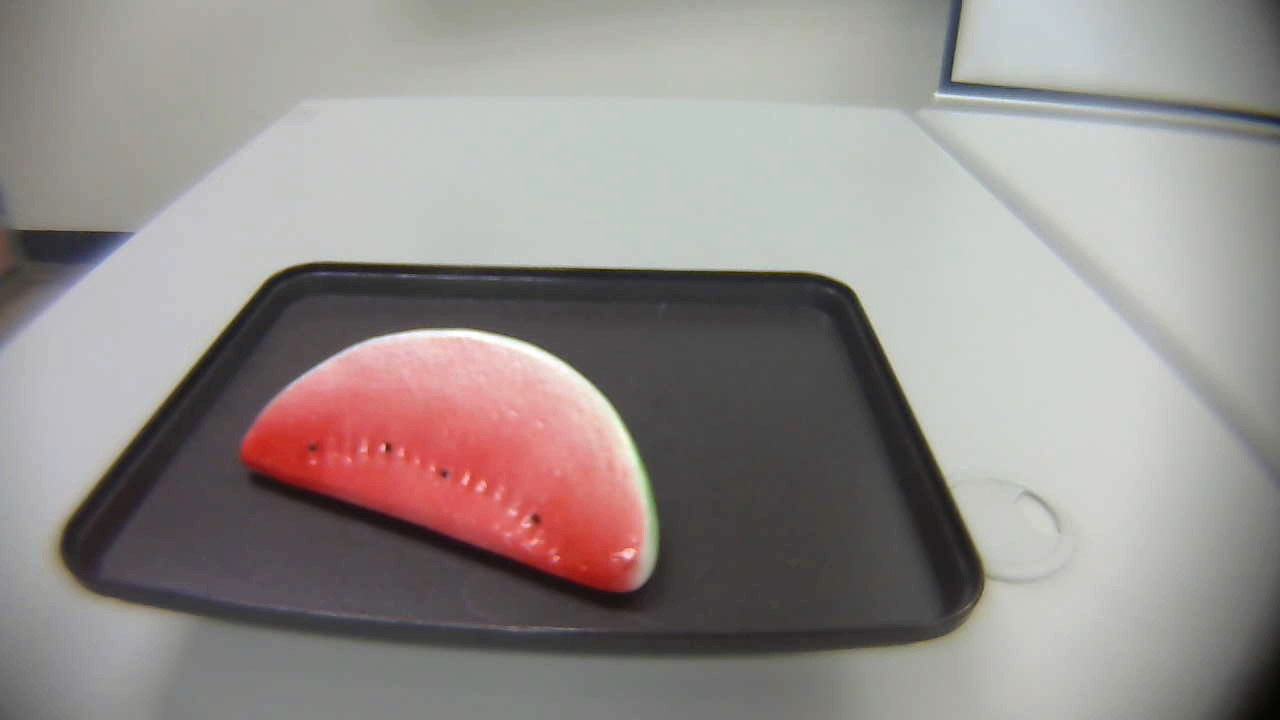water melon: (233, 324, 678, 606)
